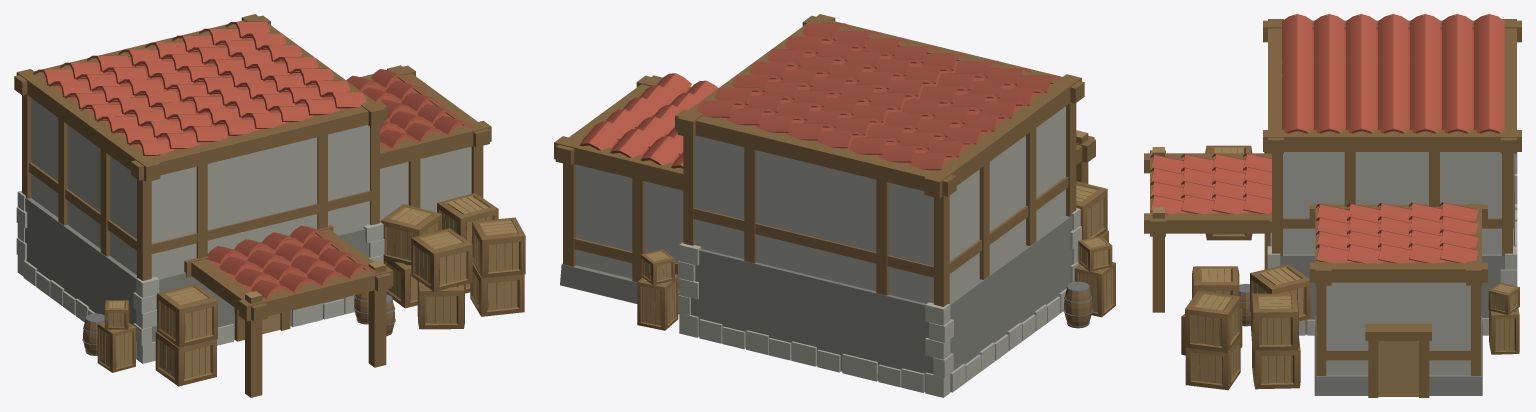
The model's file is GoF3zph6WI.glb.
The picture shows the model from 3 angles, left to right: view 1: azimuth 30°, elevation 25°; view 2: azimuth 150°, elevation 25°; view 3: azimuth 270°, elevation 25°; orthographic projection. The views are drawn at different scales.
Parts seen in each view (by area): view 1: Storage_SecondAge_Level3; view 2: Storage_SecondAge_Level3; view 3: Storage_SecondAge_Level3.
Part boxes in pixels (x1,y1,x2,y2): Storage_SecondAge_Level3: (14, 14, 525, 397); Storage_SecondAge_Level3: (554, 14, 1115, 397); Storage_SecondAge_Level3: (1144, 14, 1521, 397).
Bounding box in the file's own units: 1.81 × 0.899 × 1.43.
